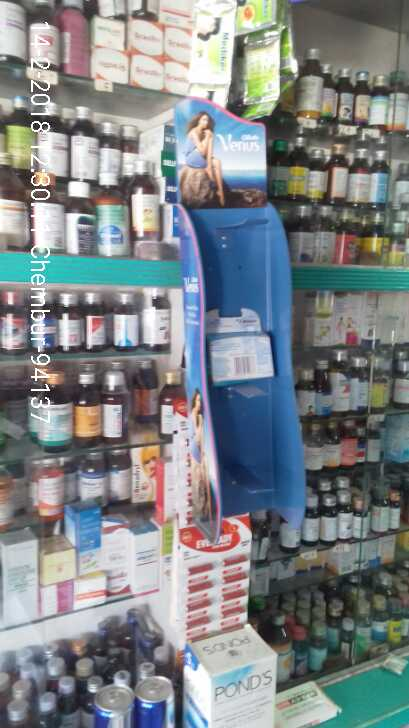reject: (122, 294, 253, 416)
